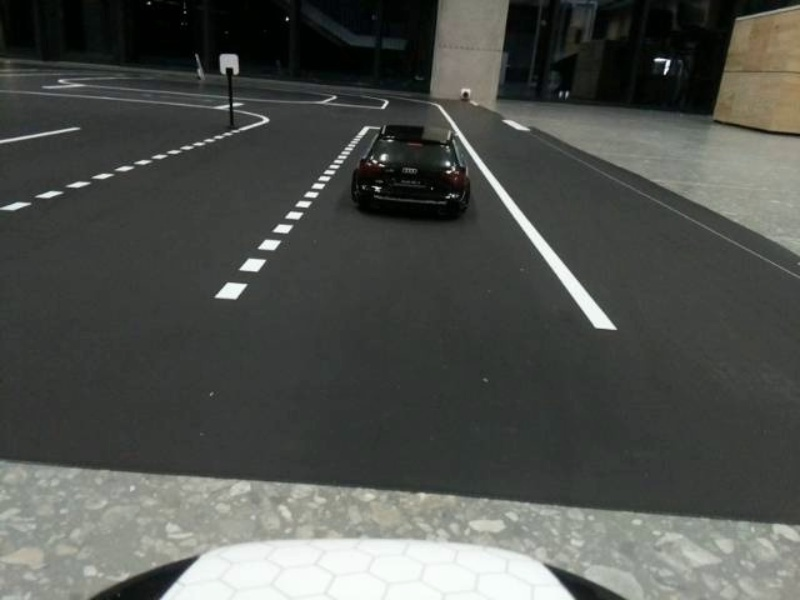car: (348, 113, 487, 231)
